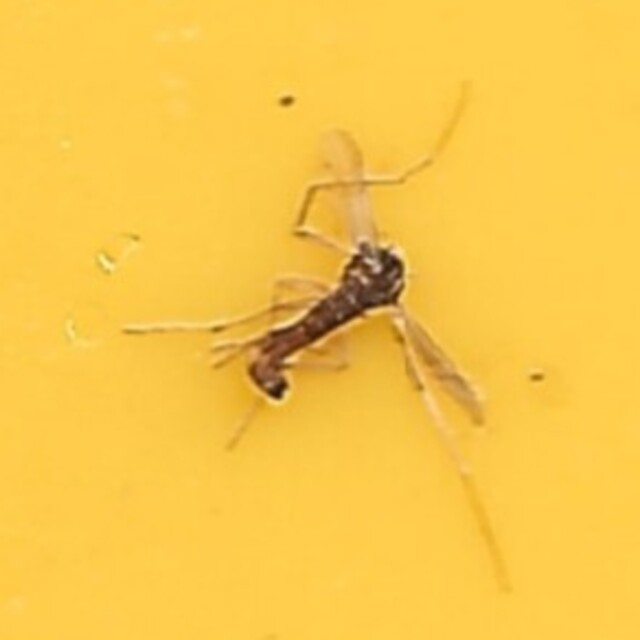Nematocera: (219, 230, 421, 410)
